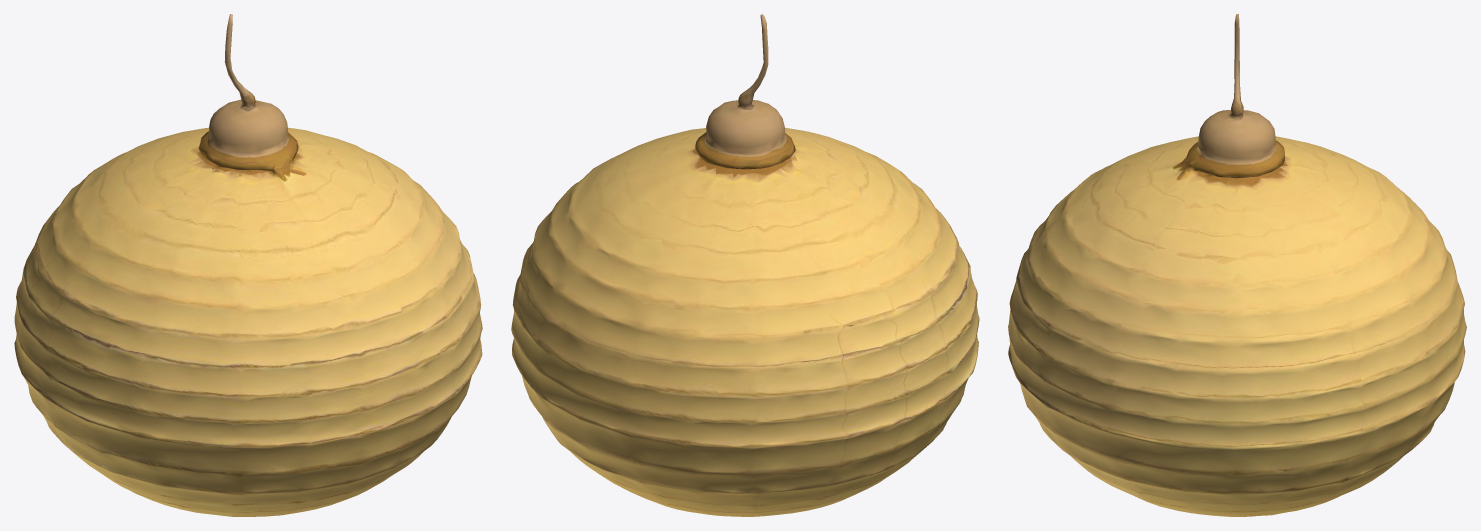
File: scene-paper-lantern.glb
The picture shows the model from 3 angles, left to right: view 1: azimuth 30°, elevation 25°; view 2: azimuth 150°, elevation 25°; view 3: azimuth 270°, elevation 25°; orthographic projection. The views are drawn at different scales.
Parts seen in each view (by area): view 1: tripo_node_d4ea919f-f328-43e8-af67-5c34d0a29294; view 2: tripo_node_d4ea919f-f328-43e8-af67-5c34d0a29294; view 3: tripo_node_d4ea919f-f328-43e8-af67-5c34d0a29294.
Part boxes in pixels (x1,y1,x2,y2): tripo_node_d4ea919f-f328-43e8-af67-5c34d0a29294: (14,14,482,516); tripo_node_d4ea919f-f328-43e8-af67-5c34d0a29294: (511,14,979,516); tripo_node_d4ea919f-f328-43e8-af67-5c34d0a29294: (1008,14,1466,516).
Bounding box in the file's own units: 0.8541 × 0.9719 × 0.8557.
1 material, 1 textured.
